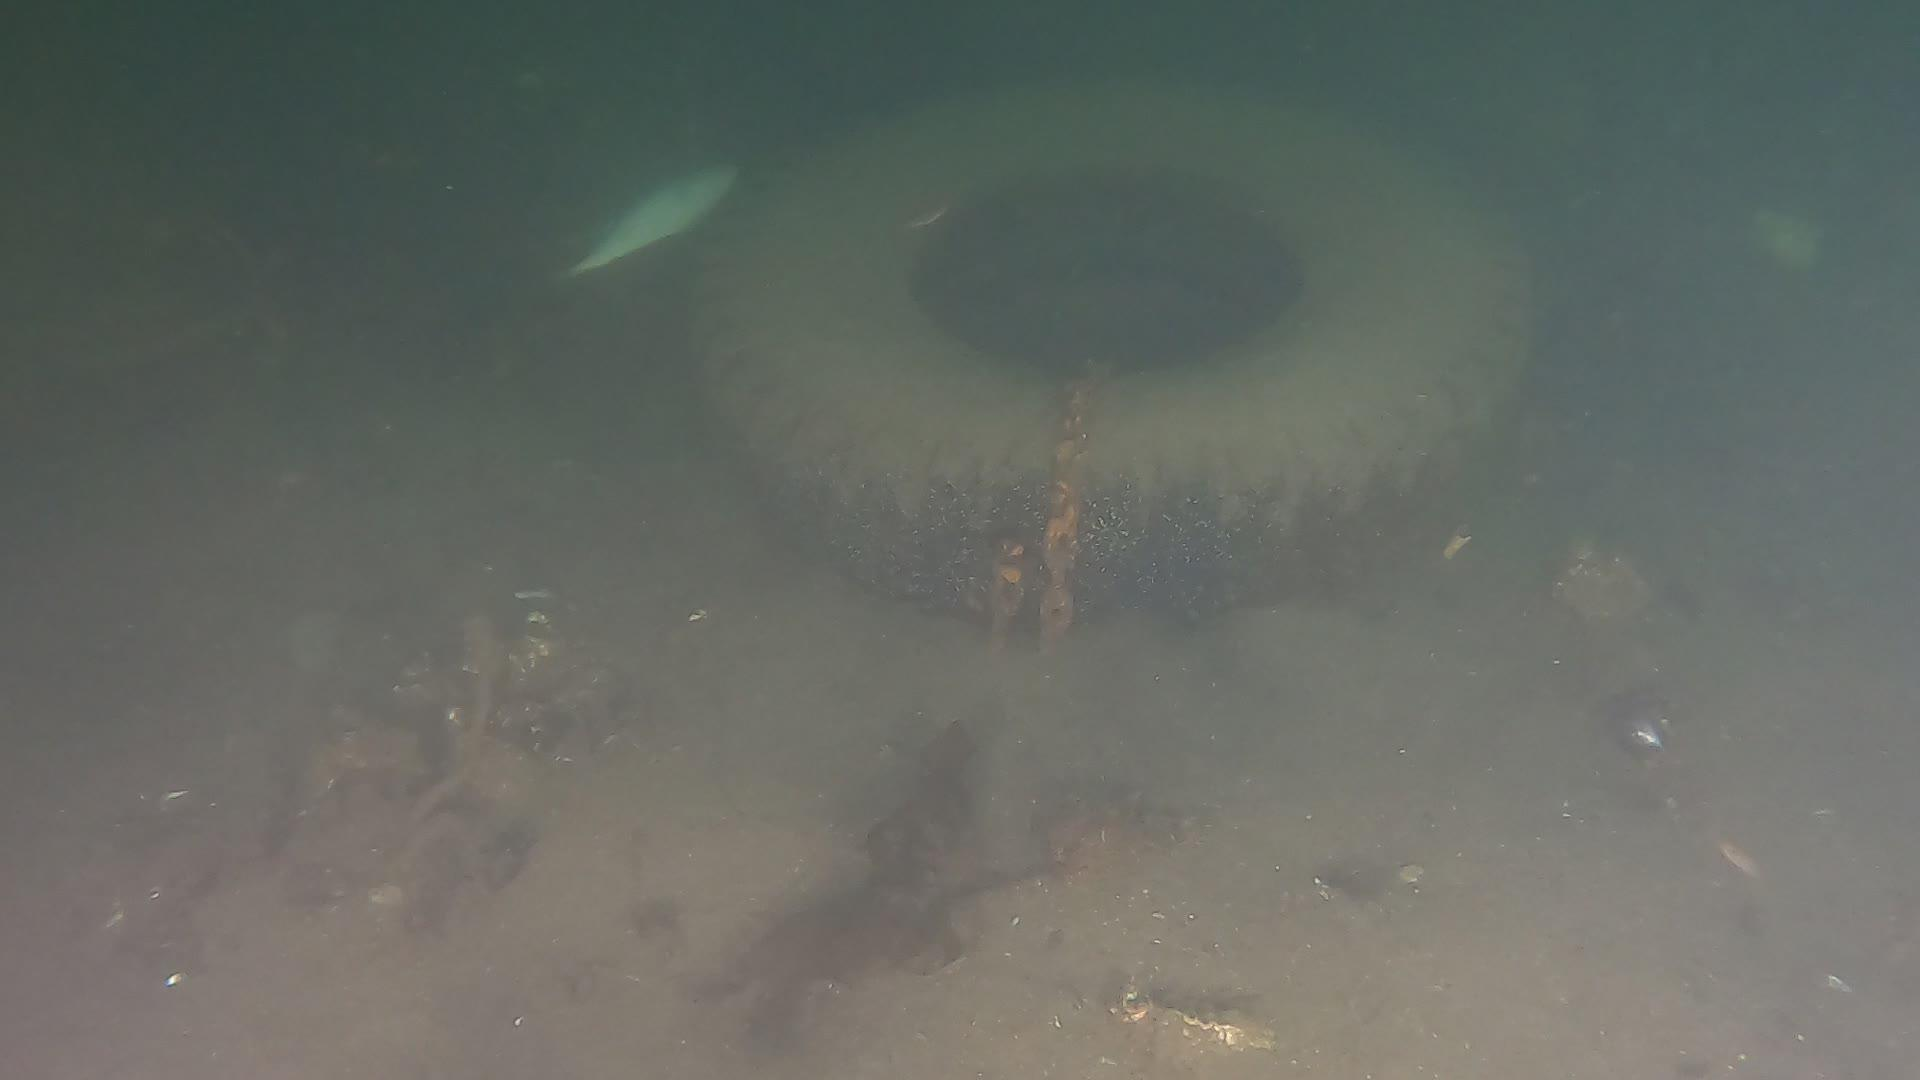tire: (709, 73, 1531, 645)
